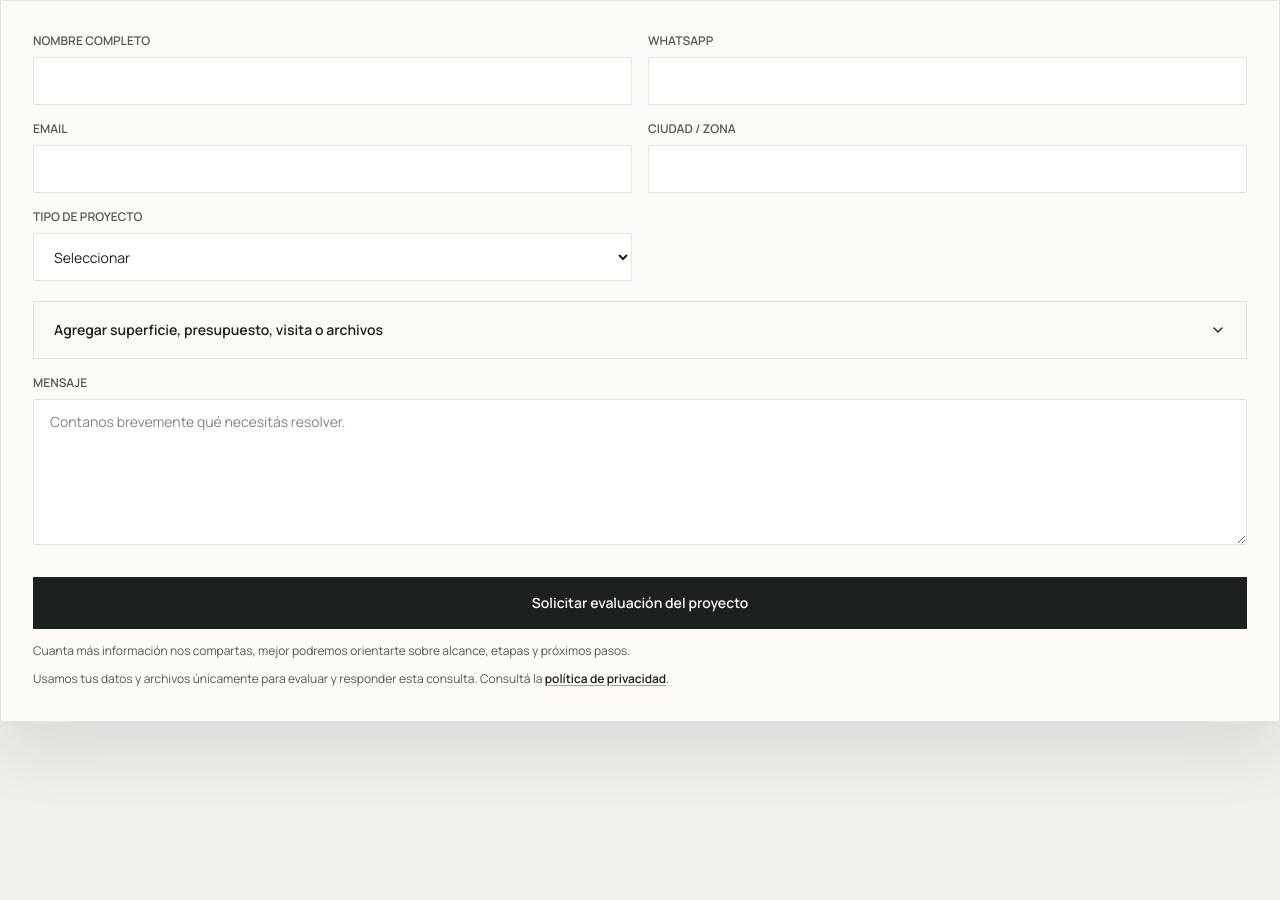
it: QuoteForm › does not report success when an HTTP success response lacks a save confirmation
Type "Cliente Prueba" into the field labelled "Nombre completo".
click(332, 81); type("Cliente Prueba")  # box [33,57,632,105]
Type "+54 351 555 1212" into the field labelled "WhatsApp".
click(948, 81); type("+54 351 555 1212")  # box [648,57,1247,105]
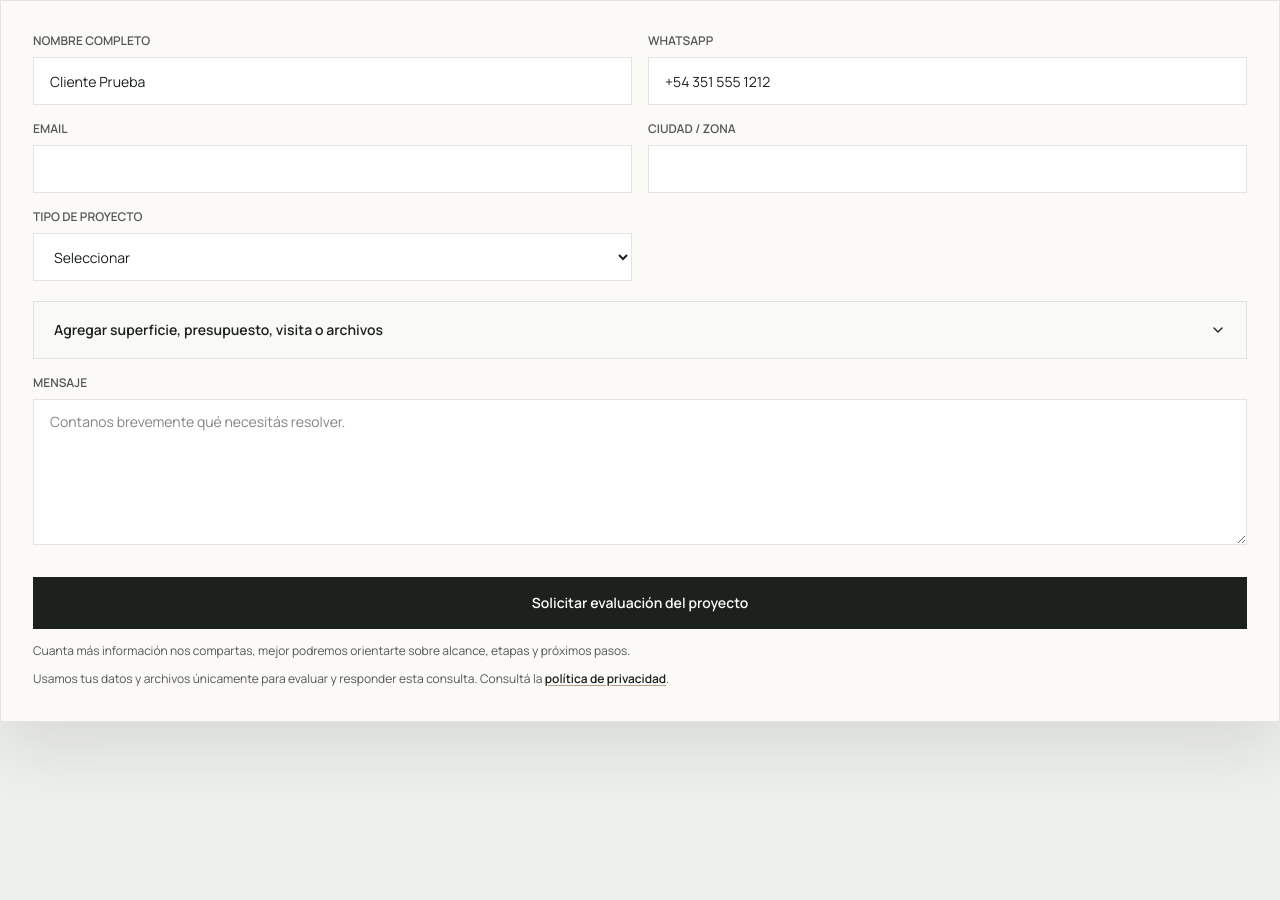
Type "cliente@example.com" into the field labelled "Email".
click(332, 169); type("cliente@example.com")  # box [33,145,632,193]
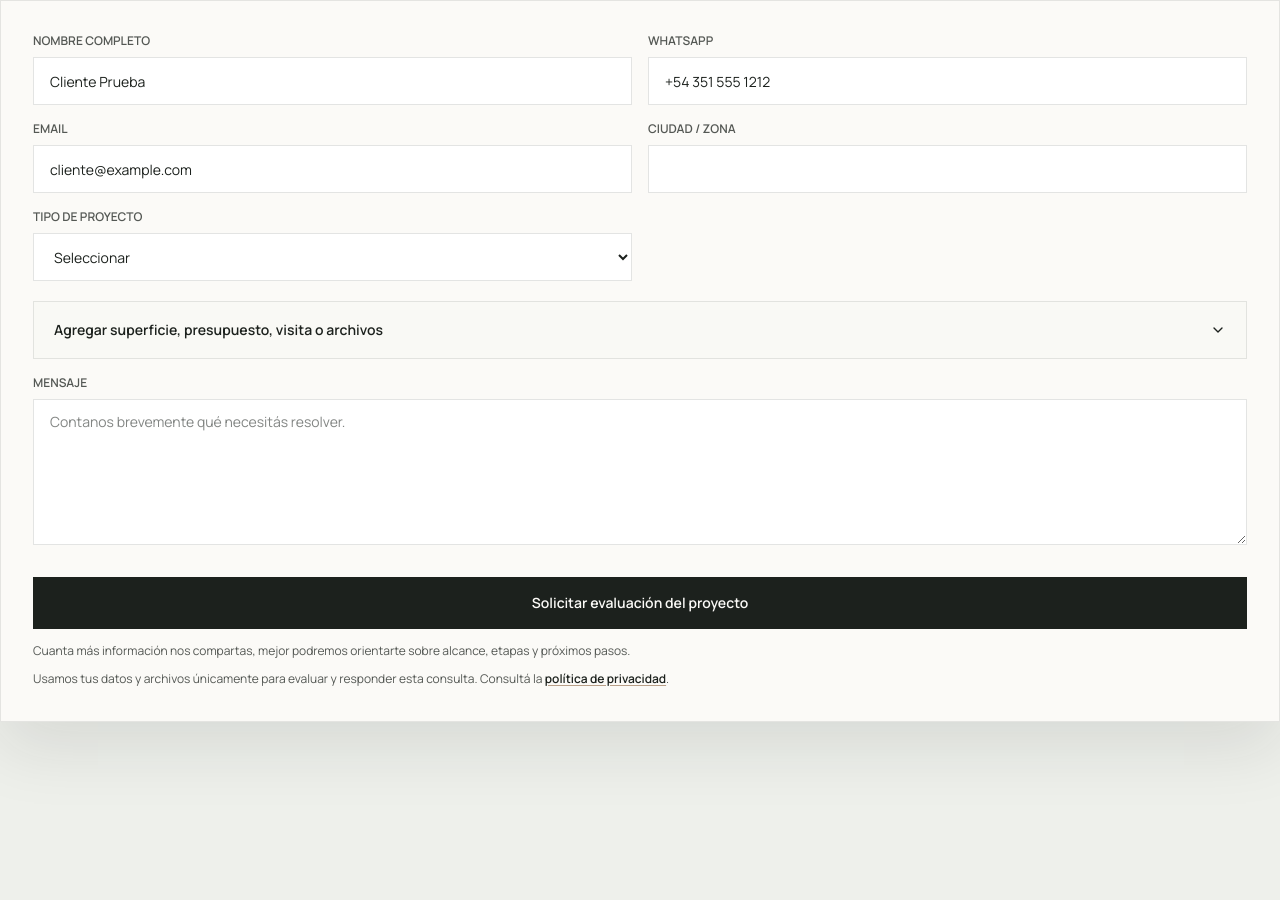
Type "Córdoba" into the field labelled "Ciudad / zona".
click(948, 169); type("Córdoba")  # box [648,145,1247,193]
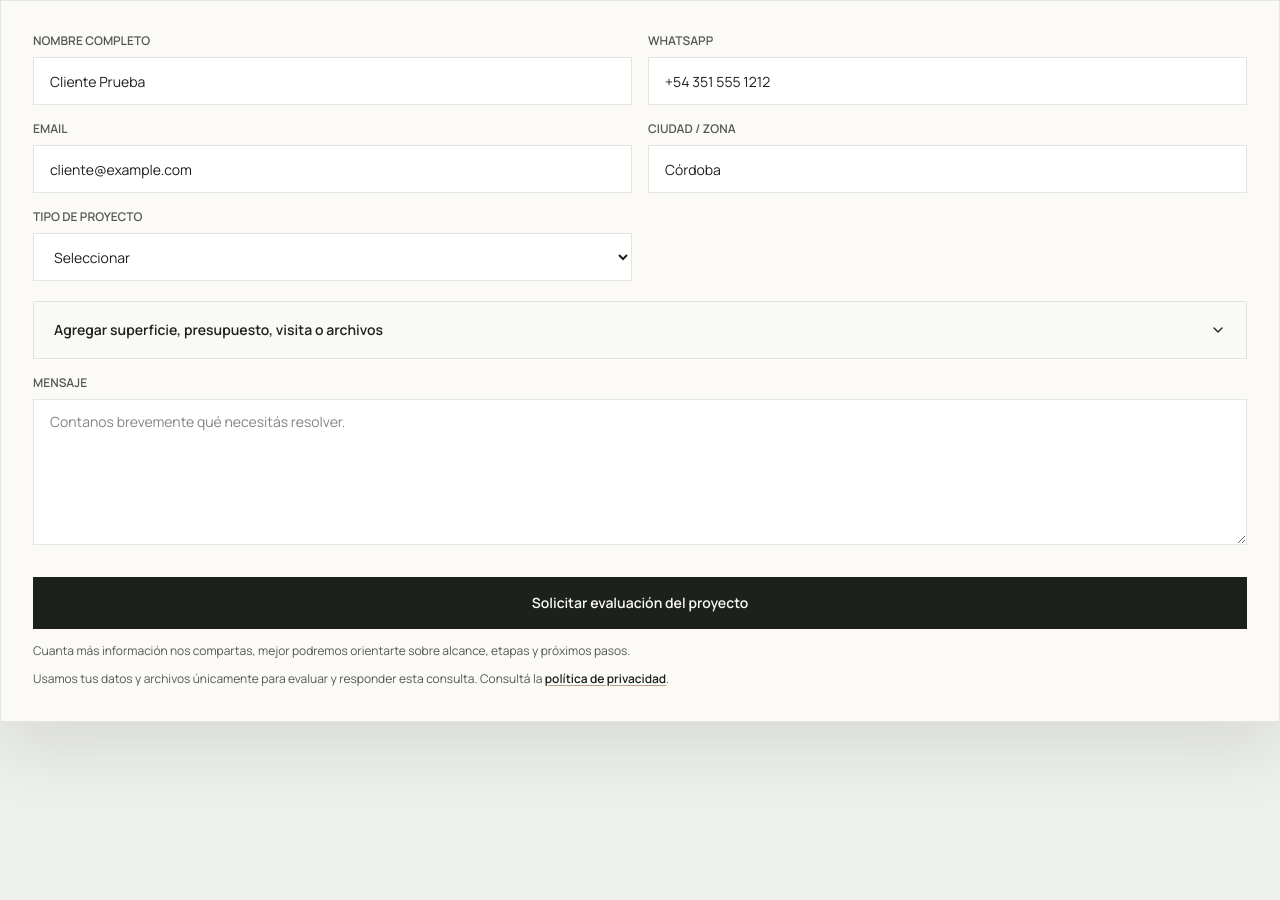
Type "Quiero construir una vivienda y conocer el proceso." into the text box labelled "Mensaje".
click(640, 472); type("Quiero construir una vivienda y conocer el proceso.")  # box [33,399,1247,545]
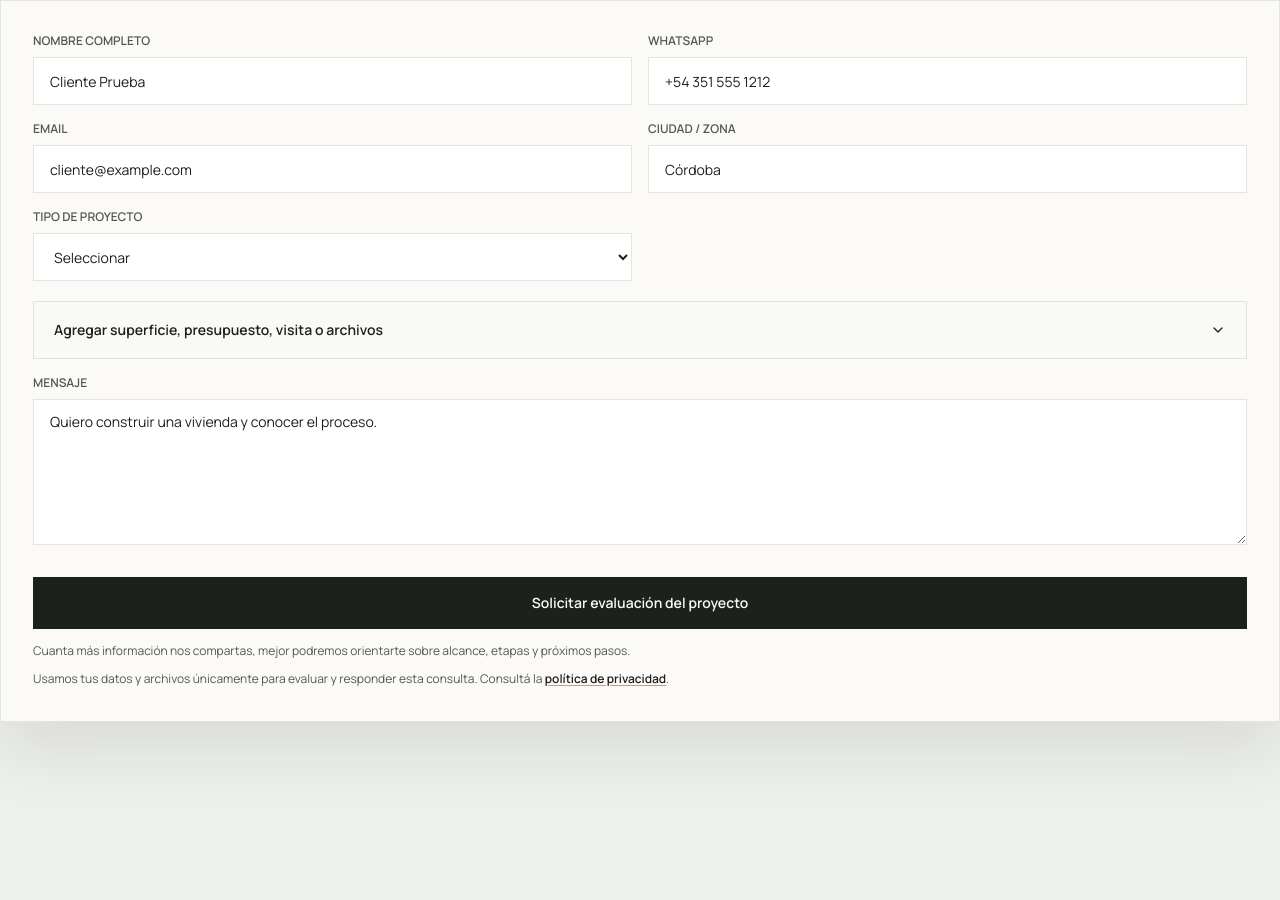
Select "Obra nueva" in the dropdown labelled "Tipo de proyecto" at (332, 257), box [33,233,632,281]
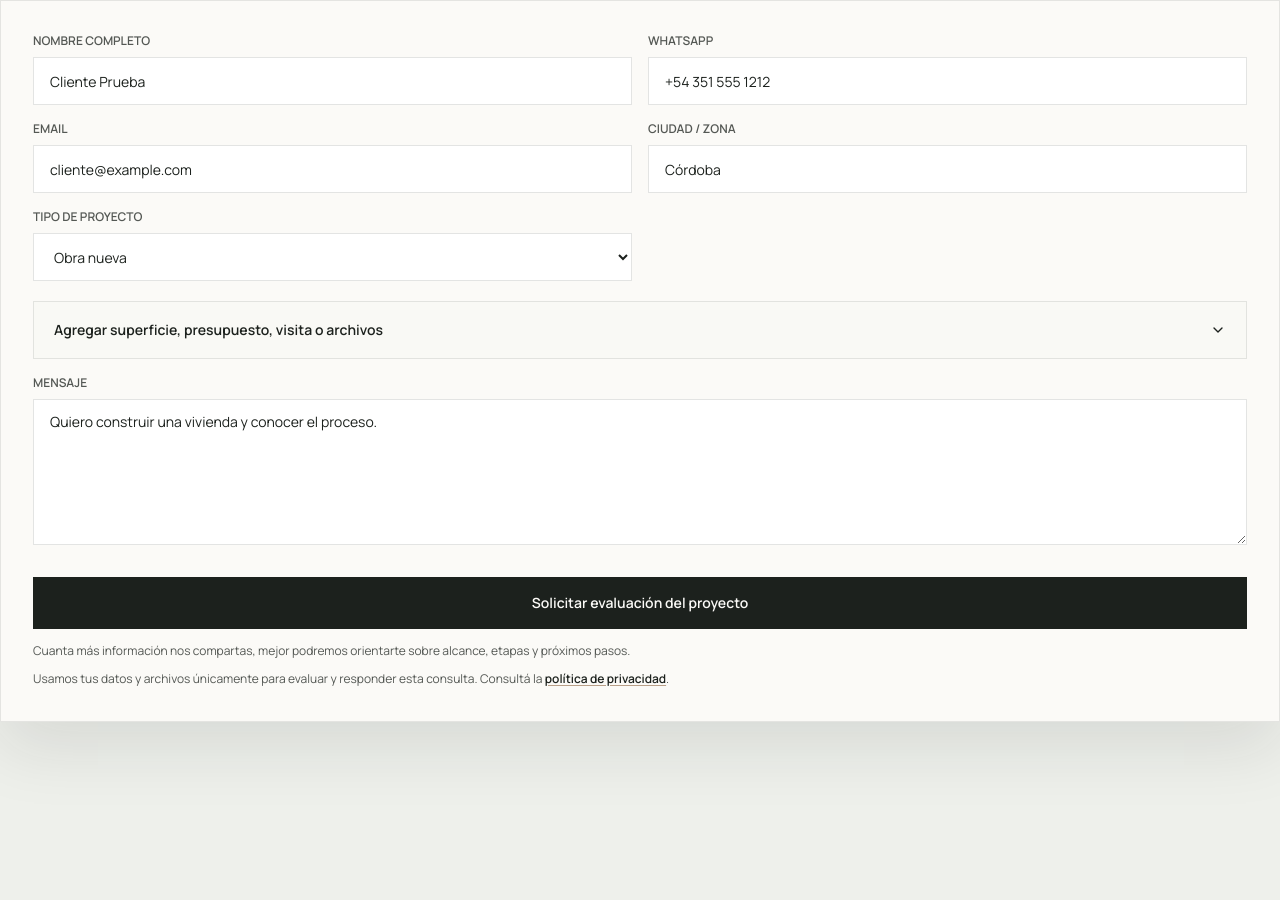
Click the button "Solicitar evaluación del proyecto".
click(640, 603)  # box [33,577,1247,629]
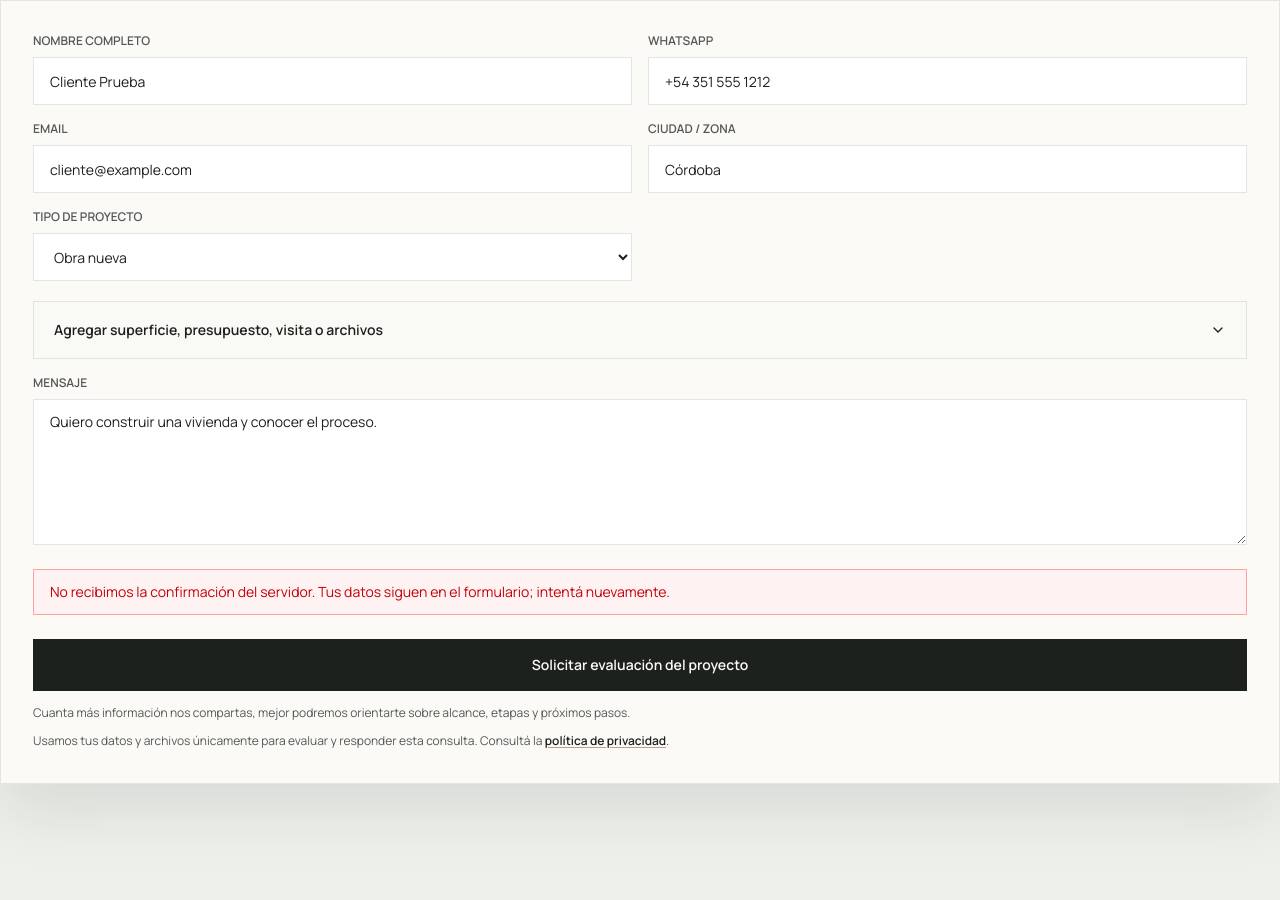
Check: the message shows "No recibimos la confirmación", box [50,582,670,601]
